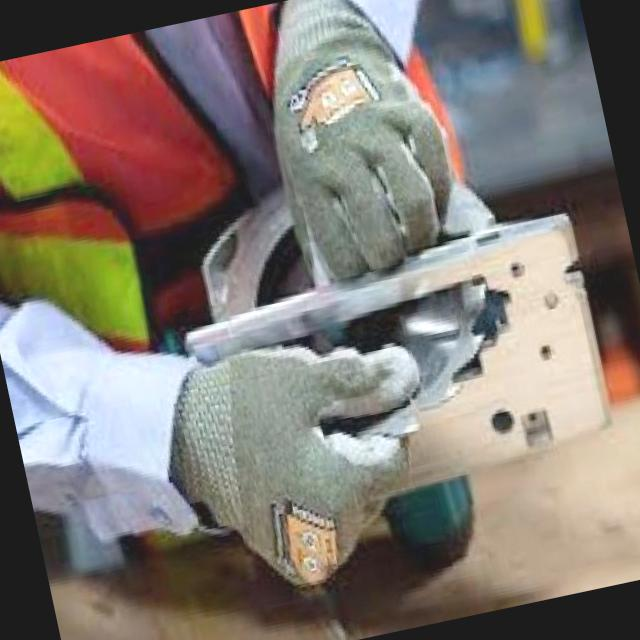vest: (0, 3, 329, 356)
